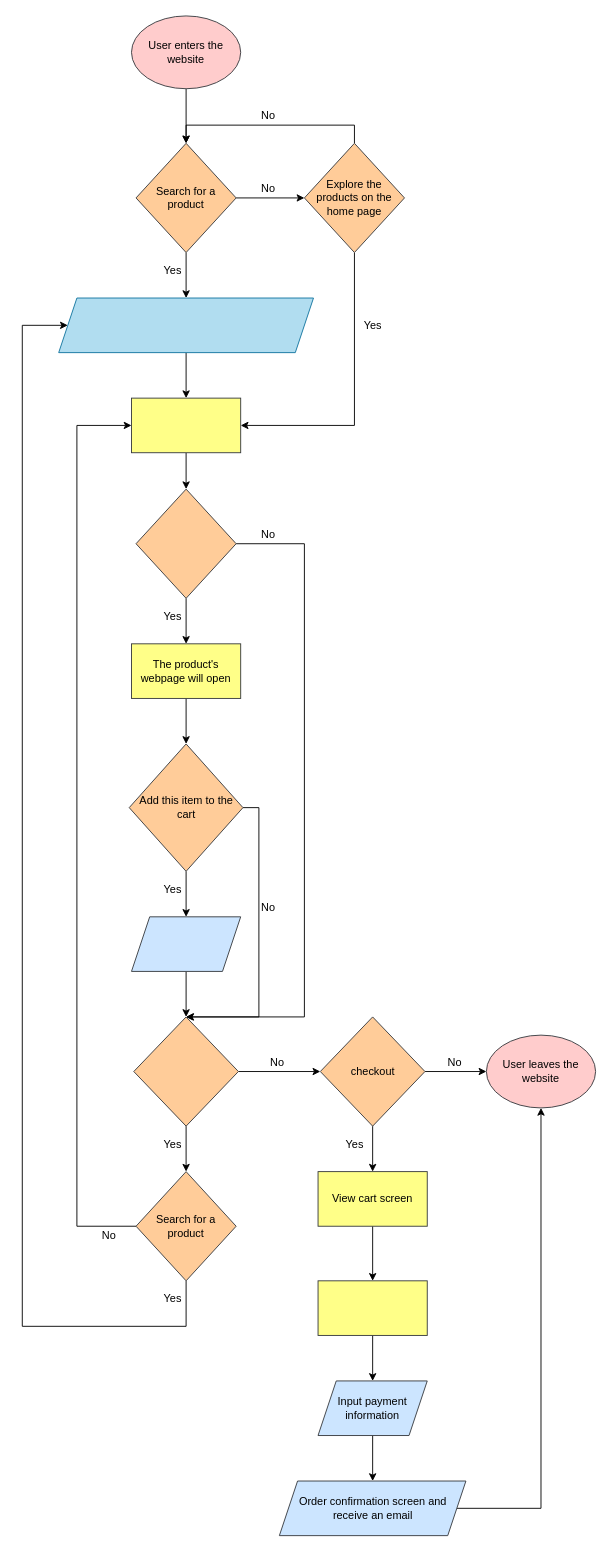
The diagram is 612 pixels wide and 1552 high, and some of its shapes have lost their labels. Each missing label, with the box of its shape:
Added to cart confirmation: (131, 916, 241, 971)
Begin looking over the products: (131, 397, 241, 453)
Continue shopping: (133, 1016, 238, 1126)
Provide input to the website of their search: (58, 297, 313, 353)
View a specific product: (135, 488, 236, 598)
View payment screen: (317, 1280, 427, 1335)
